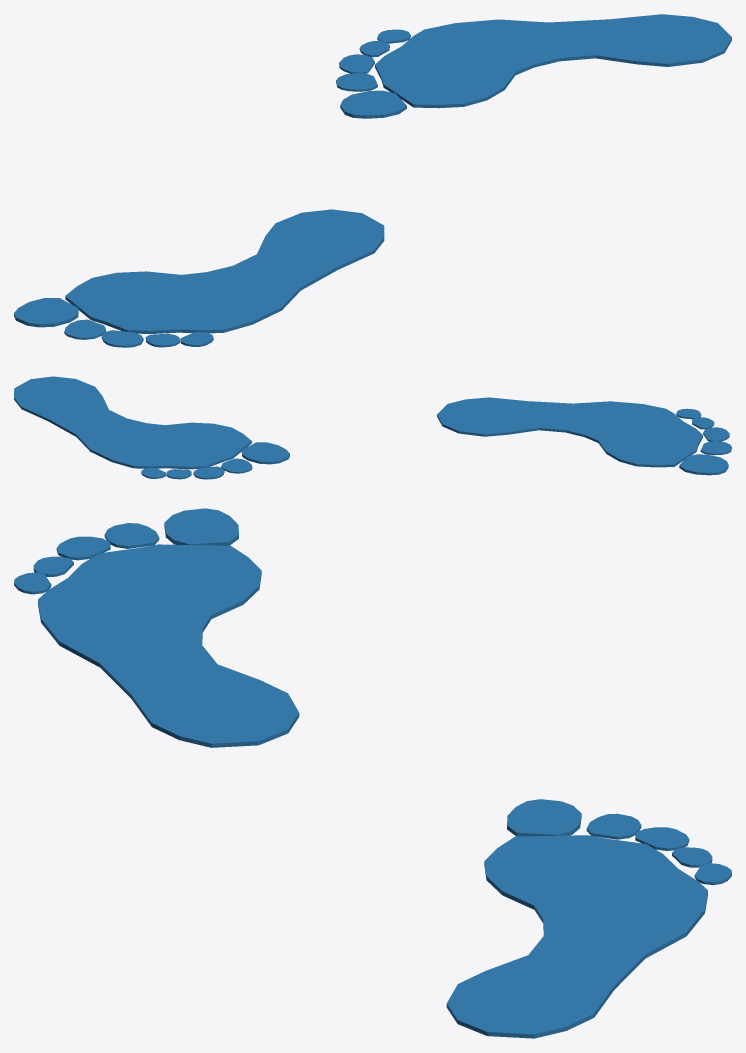
The model's file is jalajäljed.fbx.
The picture shows the model from 3 angles, top to bottom: view 1: azimuth 30°, elevation 25°; view 2: azimuth 150°, elevation 25°; view 3: azimuth 270°, elevation 25°; orthographic projection. The views are drawn at different scales.
Visible parts, largest first — view 1: Cube.001; view 2: Cube.001; view 3: Cube.001.
Part boxes in pixels (x1=…): Cube.001: x1=14, y1=14, x2=731, y2=347; Cube.001: x1=14, y1=376, x2=731, y2=479; Cube.001: x1=14, y1=508, x2=731, y2=1038.
Bounding box in the file's own units: 816 × 3.02 × 470.
